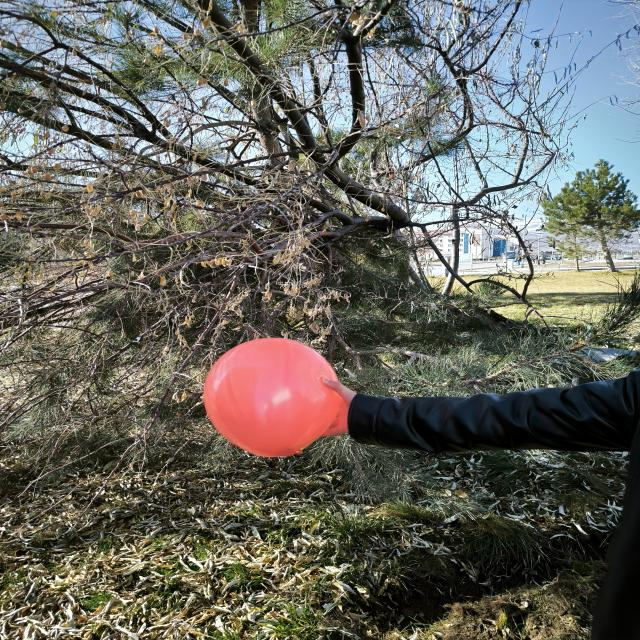balloon: (203, 338, 346, 457)
